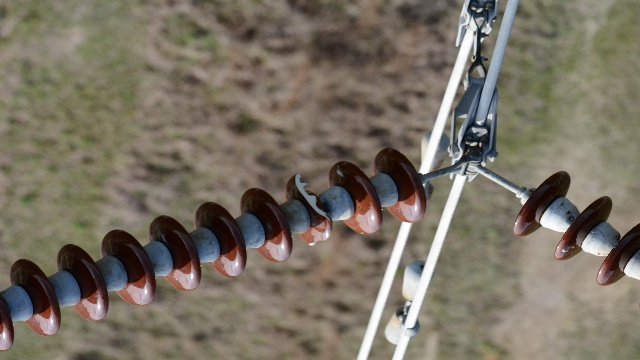broken_local: (294, 169, 331, 248)
insulator_unspecified: (0, 148, 426, 350), (514, 172, 635, 285)
